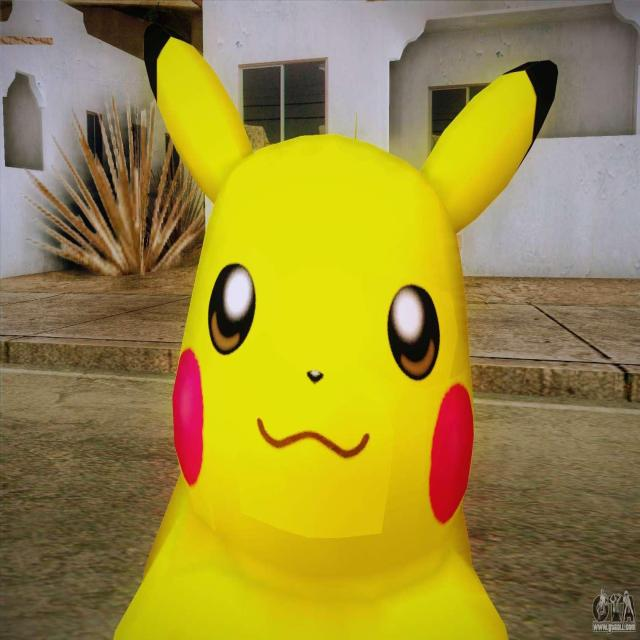pikachu: (116, 0, 557, 638)
